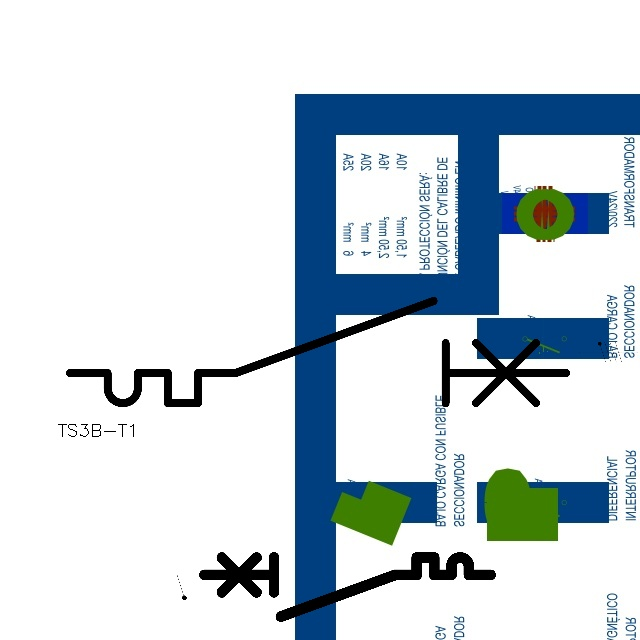interruptor_termomagnetico: (57, 288, 579, 416), (197, 550, 498, 623)
